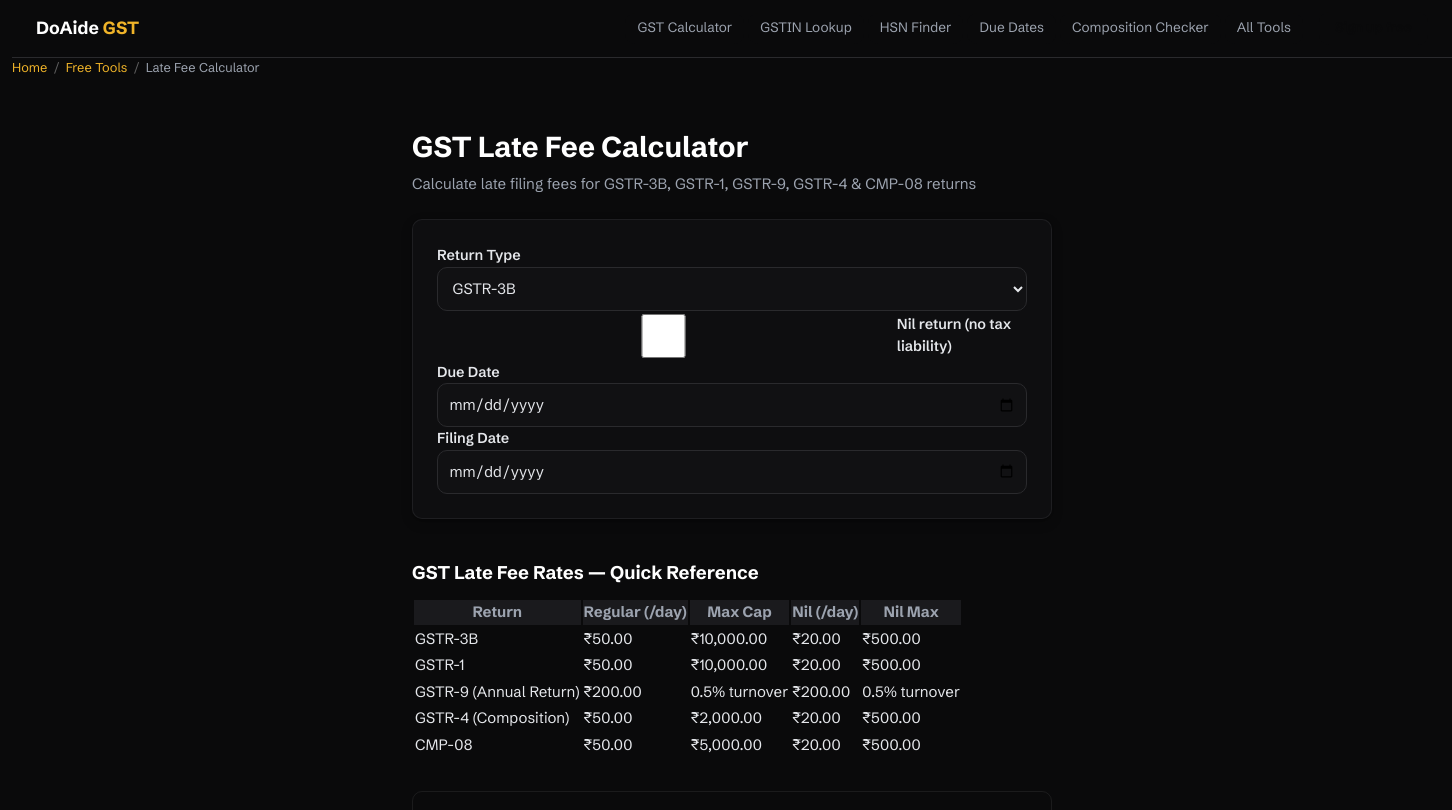
Test: LateFeeCalculatorPage › shows on-time message when filing date <= due date
The image size is (1452, 810).
Type "2026-02-20" into the 1st date field at (732, 405), box [437,383,1027,427]
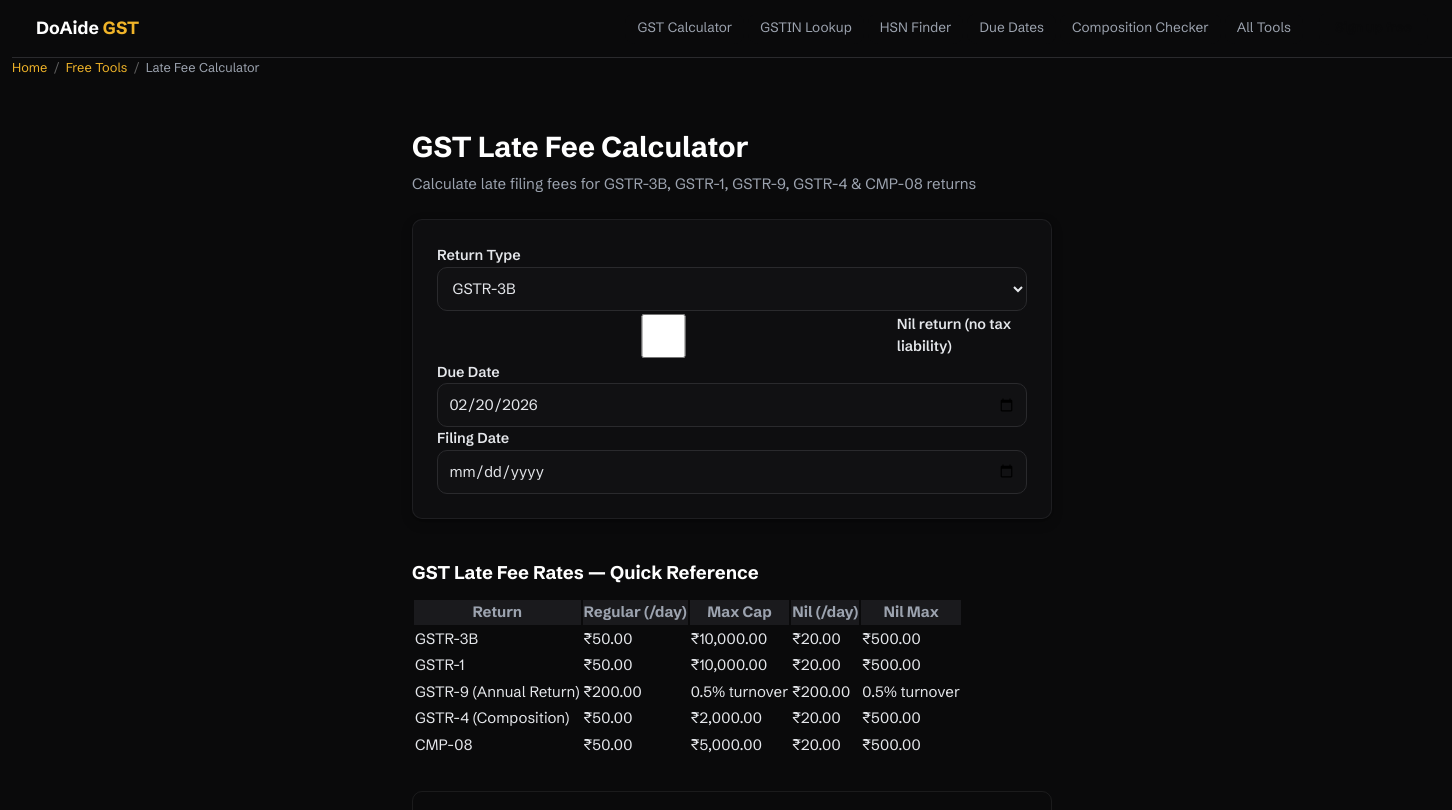
Type "2026-02-20" into the date field below "Filing Date" at (732, 472), box [437,450,1027,494]
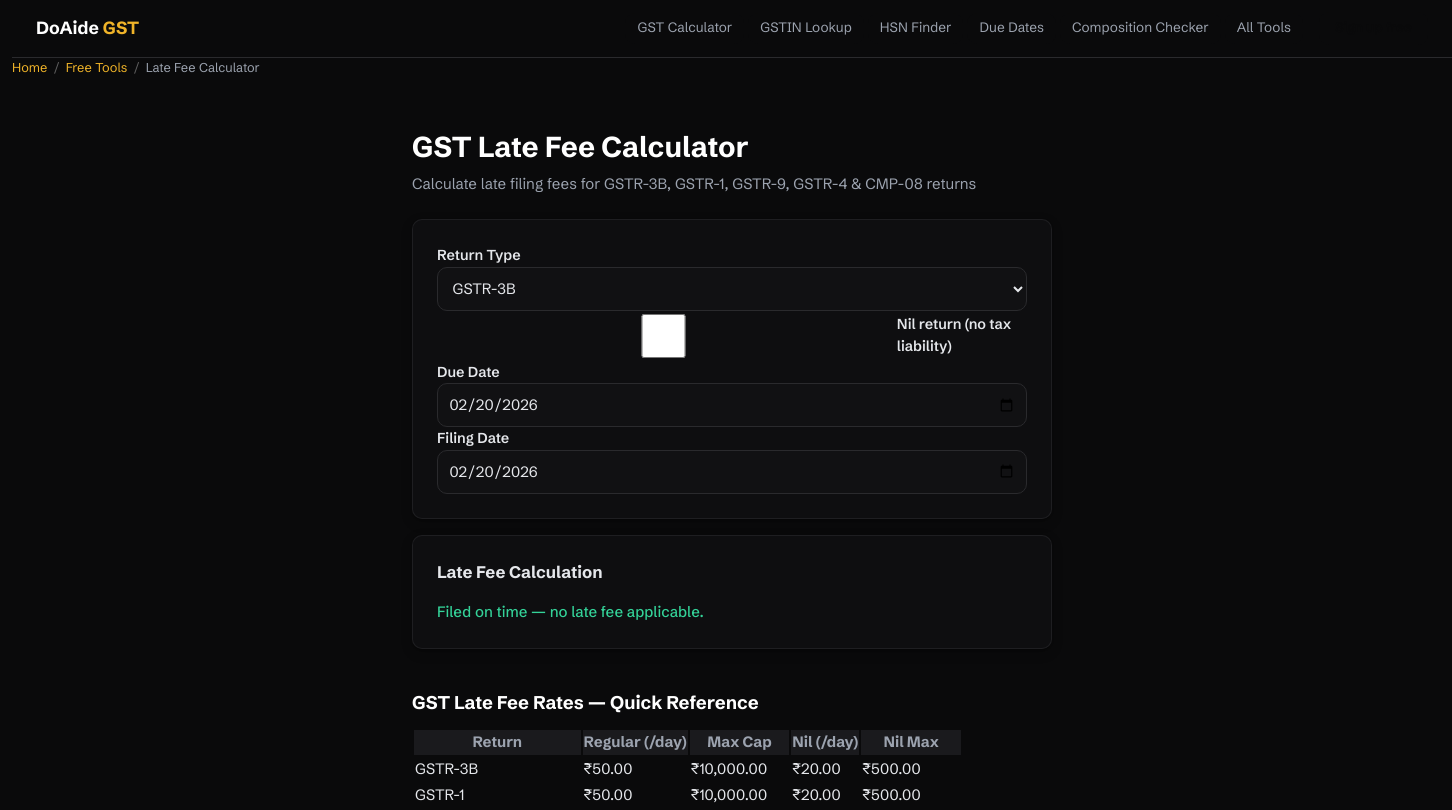
Now the text "Filed on time — no late fee applicable." is shown, box [437,602,704,621]
